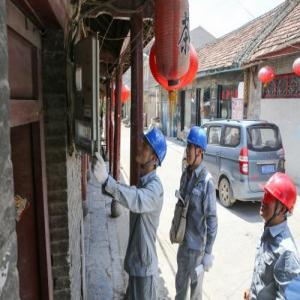blue: (138, 128, 166, 174), (185, 128, 209, 171)
red: (259, 171, 297, 232)
